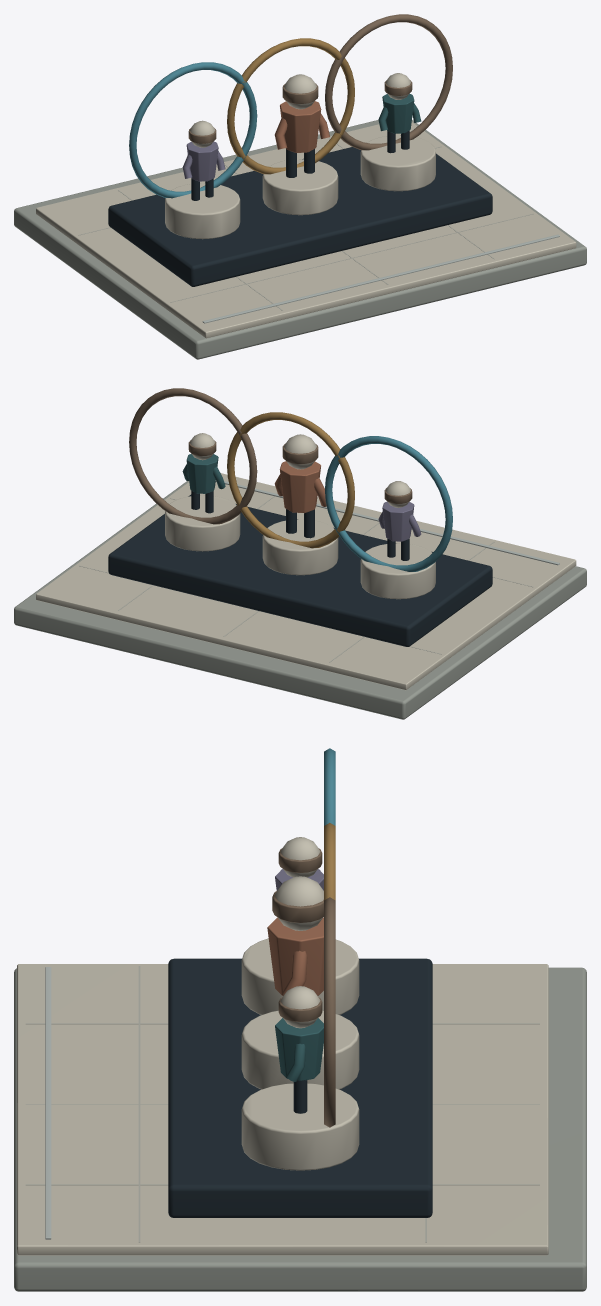
Rendered from idea-416e52d6.glb.
3 renders of one model, top to bottom at view 1: azimuth 30°, elevation 25°; view 2: azimuth 150°, elevation 25°; view 3: azimuth 270°, elevation 25°, orthographic. The views are drawn at different scales.
Visible parts, largest first — view 1: Era Skins; view 2: Era Skins; view 3: Era Skins.
Part boxes in pixels (bbox=[...]): Era Skins: bbox=[14, 14, 586, 359]; Era Skins: bbox=[14, 388, 586, 719]; Era Skins: bbox=[14, 748, 586, 1291].
Bounding box in the file's own units: 4.8 × 2.33 × 3.9.
